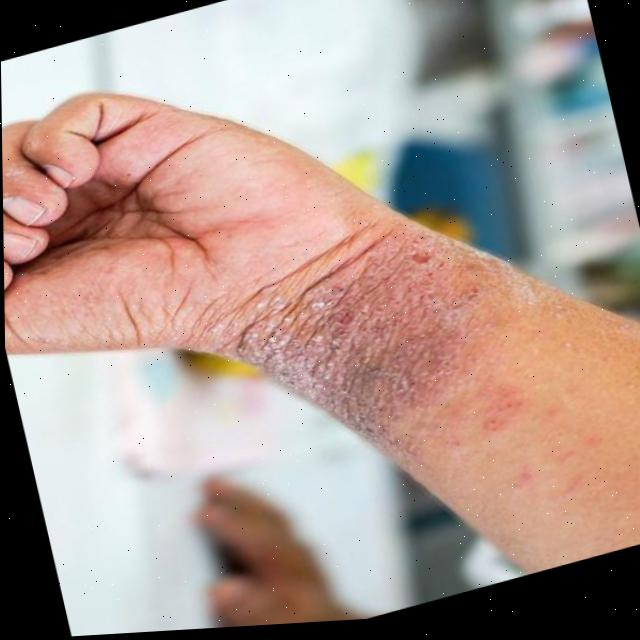Eczema: (239, 229, 496, 486)
